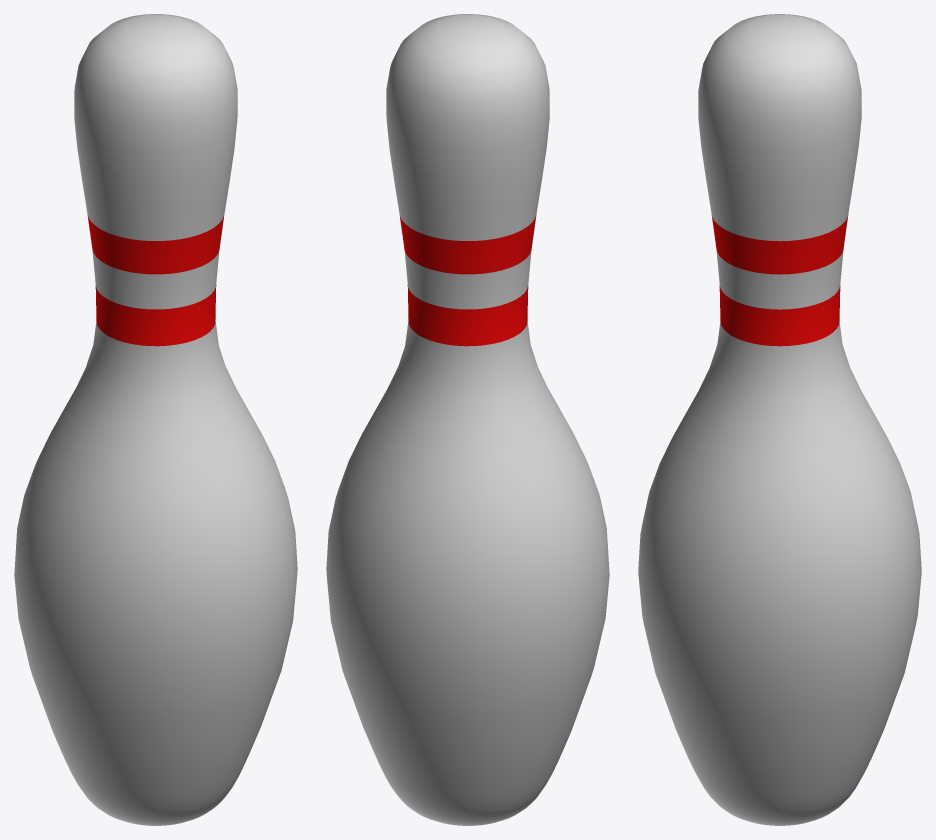
3 renders of one model, left to right at view 1: azimuth 30°, elevation 25°; view 2: azimuth 150°, elevation 25°; view 3: azimuth 270°, elevation 25°, orthographic.
Visible parts, largest first — view 1: CUBezierCurve001, CUBezierCurve001_1; view 2: CUBezierCurve001, CUBezierCurve001_1; view 3: CUBezierCurve001, CUBezierCurve001_1.
Boxes of the visible parts, x1=… form: CUBezierCurve001: x1=14, y1=14, x2=297, y2=825; CUBezierCurve001_1: x1=87, y1=215, x2=223, y2=346; CUBezierCurve001: x1=326, y1=14, x2=609, y2=825; CUBezierCurve001_1: x1=400, y1=215, x2=536, y2=346; CUBezierCurve001: x1=638, y1=14, x2=921, y2=825; CUBezierCurve001_1: x1=711, y1=215, x2=848, y2=346.
Size of the model in its own units: 1.24 by 3.8 by 1.24.
